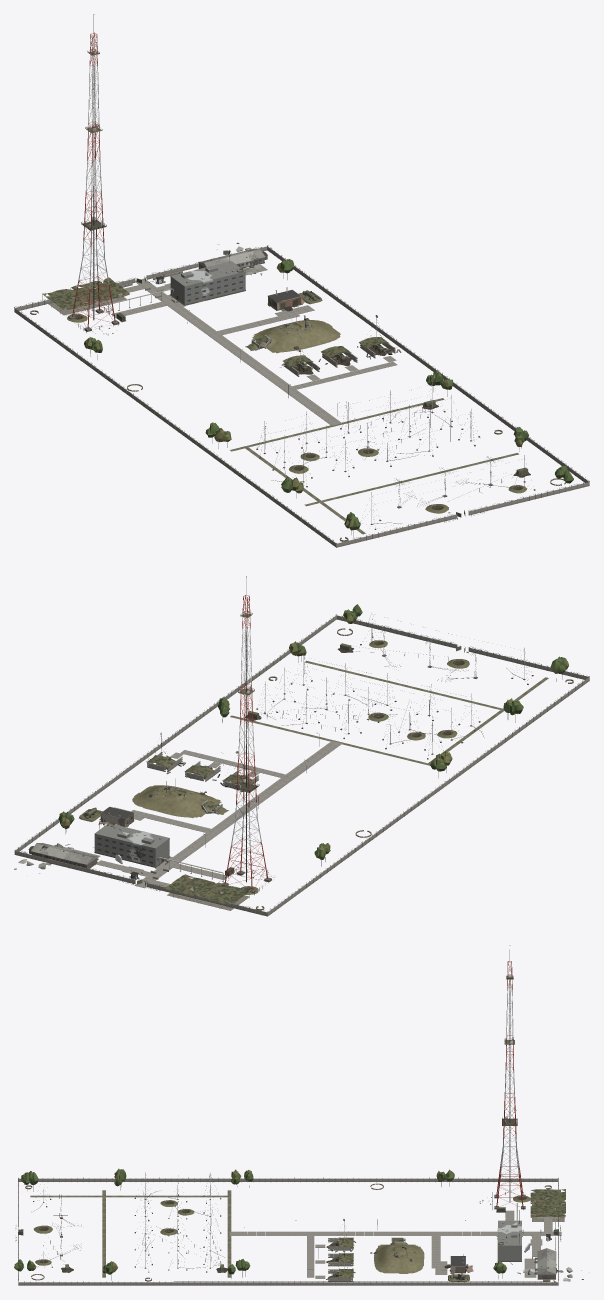
File: site_tv_city.glb
The picture shows the model from 3 angles, top to bottom: view 1: azimuth 30°, elevation 25°; view 2: azimuth 150°, elevation 25°; view 3: azimuth 270°, elevation 25°; orthographic projection. The views are drawn at different scales.
Parts seen in each view (by area): view 1: deco|F_A, deco|tile_conc, b_tower|F_A, b_tech|F_A, deco_trees|F_A, b_bunker1|F_A, b_antenna|F_A, b_tech_ruin|F_B, b_antenna_ruin|F_B, b_barracks|F_A, b_tower_ruin_fall|F_B, b_des|F_A; view 2: deco|F_A, deco|tile_conc, b_tower|F_A, b_tech|F_A, b_bunker1|F_A, deco_trees|F_A, b_barracks|F_A, b_tech_ruin|F_B, b_antenna|F_A, b_antenna_ruin|F_B, b_des|F_A, b_antenna2_ruin|F_B (+1 smaller); view 3: deco|F_A, deco|tile_conc, b_tower|F_A, deco_trees|F_A, b_bunker1|F_A, b_tech|F_A, b_barracks|F_A, b_antenna_ruin|F_B, b_tech_ruin|F_B, b_antenna|F_A.
Boxes of the visible parts, left/top/right/bottom form: deco|F_A: left=14, top=245, right=589, bottom=547; deco|tile_conc: left=64, top=264, right=397, bottom=425; b_tower|F_A: left=66, top=14, right=125, bottom=332; b_tech|F_A: left=170, top=250, right=245, bottom=305; deco_trees|F_A: left=84, top=259, right=573, bottom=538; b_bunker1|F_A: left=250, top=315, right=340, bottom=353; b_antenna|F_A: left=256, top=381, right=479, bottom=487; b_tech_ruin|F_B: left=170, top=261, right=245, bottom=305; b_antenna_ruin|F_B: left=264, top=401, right=470, bottom=481; b_barracks|F_A: left=198, top=248, right=267, bottom=268; b_tower_ruin_fall|F_B: left=85, top=15, right=101, bottom=209; b_des|F_A: left=268, top=287, right=322, bottom=310; deco|F_A: left=14, top=614, right=589, bottom=916; deco|tile_conc: left=54, top=741, right=342, bottom=906; b_tower|F_A: left=219, top=576, right=273, bottom=894; b_tech|F_A: left=94, top=821, right=169, bottom=867; b_bunker1|F_A: left=132, top=778, right=224, bottom=817; deco_trees|F_A: left=58, top=604, right=568, bottom=866; b_barracks|F_A: left=28, top=843, right=97, bottom=868; b_tech_ruin|F_B: left=94, top=829, right=170, bottom=867; b_antenna|F_A: left=247, top=653, right=480, bottom=759; b_antenna_ruin|F_B: left=245, top=654, right=484, bottom=743; b_des|F_A: left=79, top=806, right=134, bottom=826; b_antenna2_ruin|F_B: left=337, top=640, right=523, bottom=681; deco|F_A: left=15, top=1177, right=565, bottom=1285; deco|tile_conc: left=229, top=1199, right=561, bottom=1278; b_tower|F_A: left=492, top=945, right=525, bottom=1212; deco_trees|F_A: left=14, top=1168, right=506, bottom=1280; b_bunker1|F_A: left=370, top=1237, right=424, bottom=1273; b_tech|F_A: left=497, top=1210, right=521, bottom=1261; b_barracks|F_A: left=534, top=1248, right=556, bottom=1281; b_antenna_ruin|F_B: left=142, top=1174, right=227, bottom=1272; b_tech_ruin|F_B: left=497, top=1220, right=530, bottom=1261; b_antenna|F_A: left=134, top=1172, right=224, bottom=1272.
Size of the model in its own units: 167 by 193 by 390.
35 materials, 26 textured.
